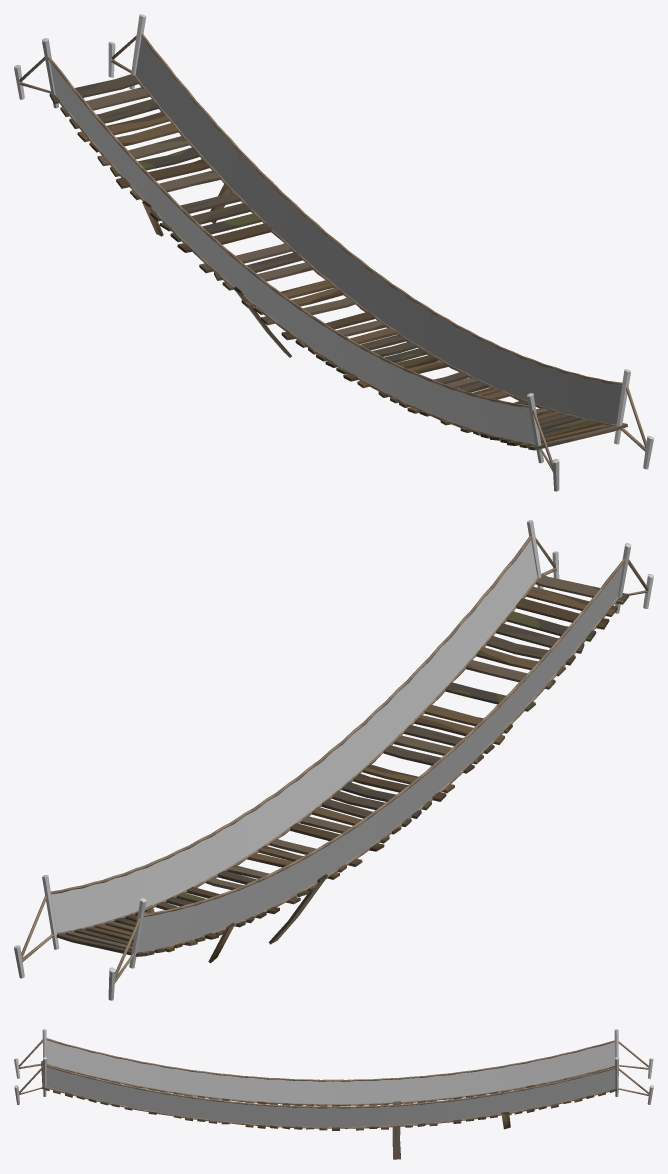
File: SM_Bld_Ropebridge_Damaged_03.fbx
3 renders of one model, top to bottom at view 1: azimuth 30°, elevation 25°; view 2: azimuth 150°, elevation 25°; view 3: azimuth 270°, elevation 25°, orthographic. The views are drawn at different scales.
Parts seen in each view (by area): view 1: SM_Bld_Ropebridge_Damaged_03; view 2: SM_Bld_Ropebridge_Damaged_03; view 3: SM_Bld_Ropebridge_Damaged_03.
Boxes of the visible parts, x1=… form: SM_Bld_Ropebridge_Damaged_03: x1=14, y1=14, x2=653, y2=491; SM_Bld_Ropebridge_Damaged_03: x1=14, y1=520, x2=653, y2=1000; SM_Bld_Ropebridge_Damaged_03: x1=14, y1=1029, x2=653, y2=1159.
Bounding box in the file's own units: 258 × 459 × 2325.
